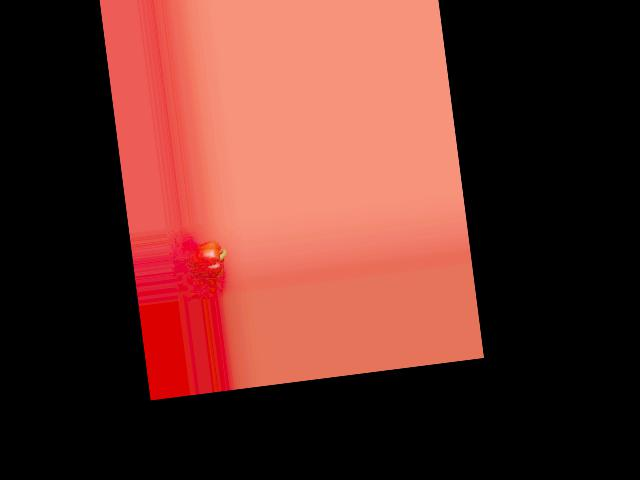bell_pepper: (184, 241, 230, 282)
